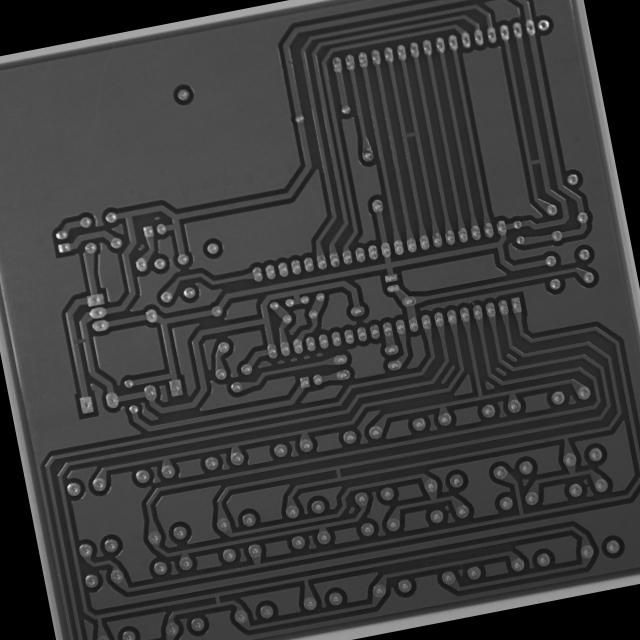short: (65, 330, 94, 354), (522, 152, 548, 172), (206, 589, 228, 611), (398, 125, 421, 144), (331, 462, 348, 484)
